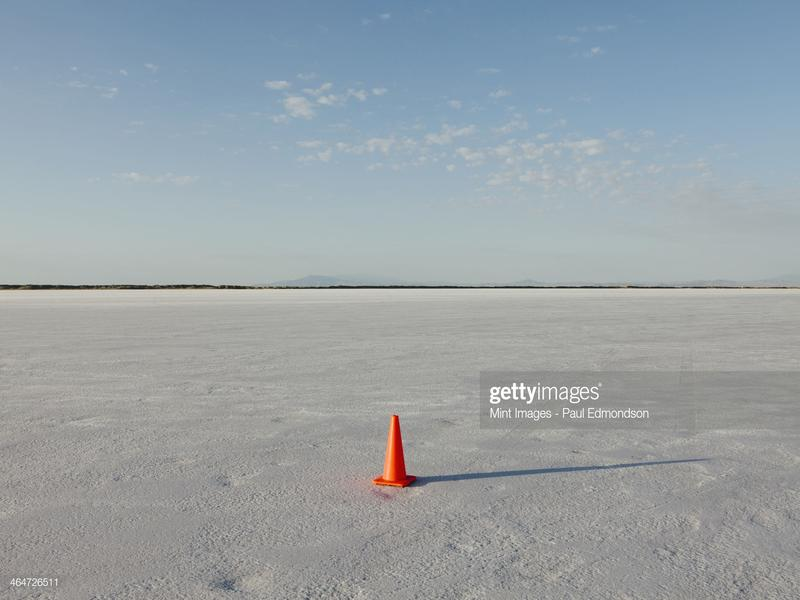Cone: (373, 415, 417, 489)
